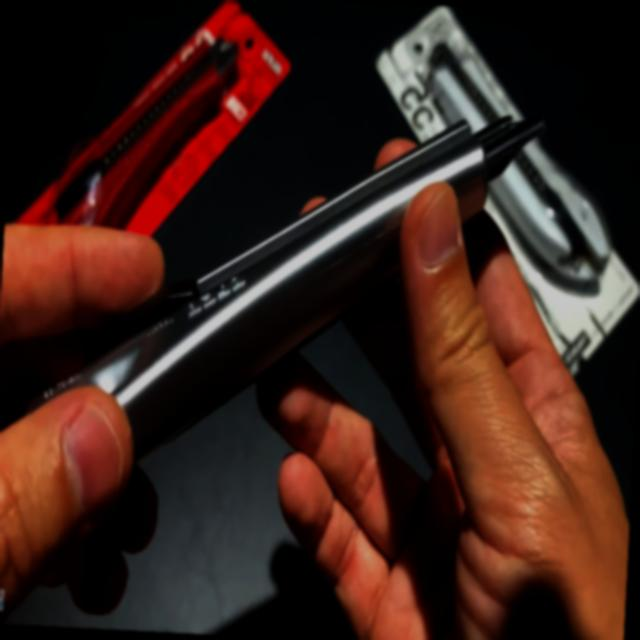cutter: (0, 28, 600, 640)
